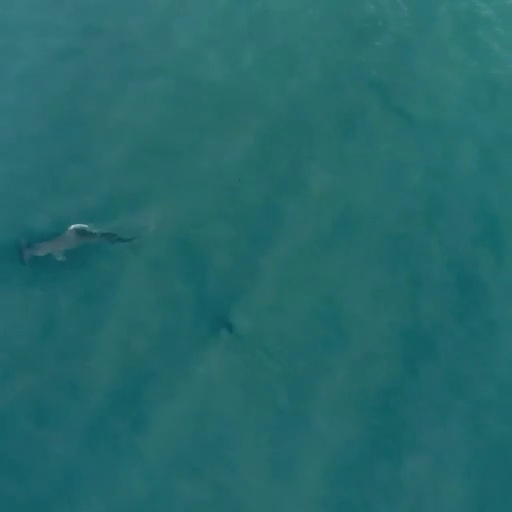shark: (14, 219, 142, 270)
